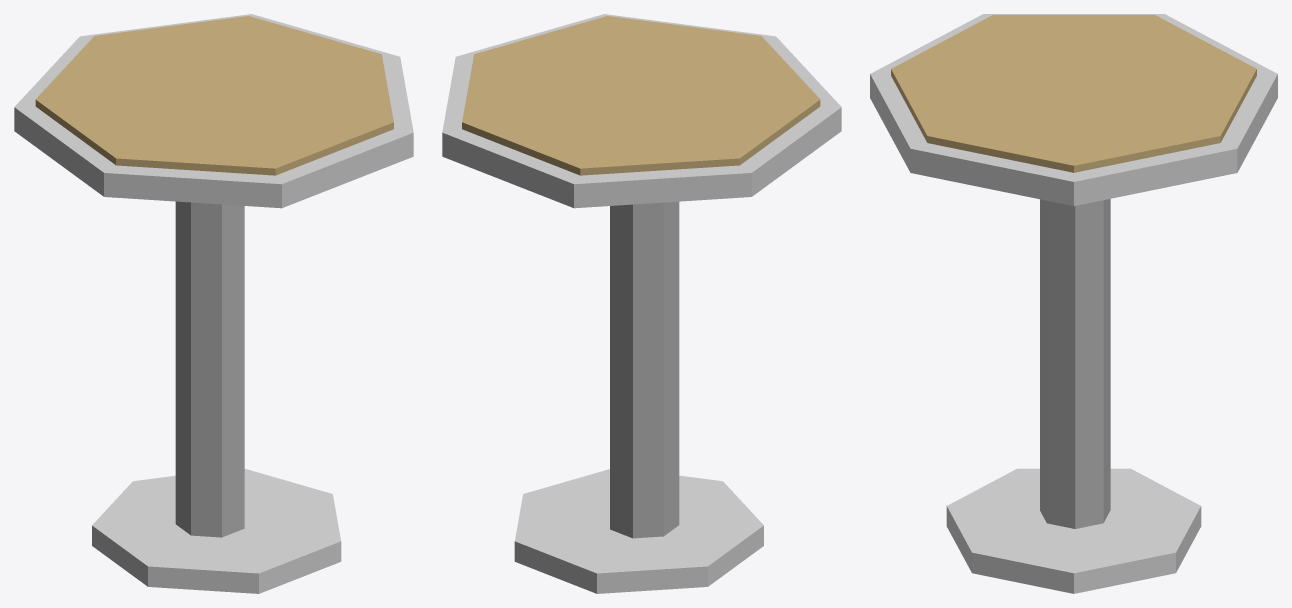
Rendered from stool.fbx.
The picture shows the model from 3 angles, left to right: view 1: azimuth 30°, elevation 25°; view 2: azimuth 150°, elevation 25°; view 3: azimuth 270°, elevation 25°; orthographic projection.
Visible parts, largest first — view 1: Cylinder_7; view 2: Cylinder_7; view 3: Cylinder_7.
Boxes of the visible parts, x1=… form: Cylinder_7: x1=14, y1=14, x2=413, y2=593; Cylinder_7: x1=442, y1=14, x2=841, y2=593; Cylinder_7: x1=870, y1=14, x2=1277, y2=593.
Size of the model in its own units: 50.15 by 62.97 by 51.44.
